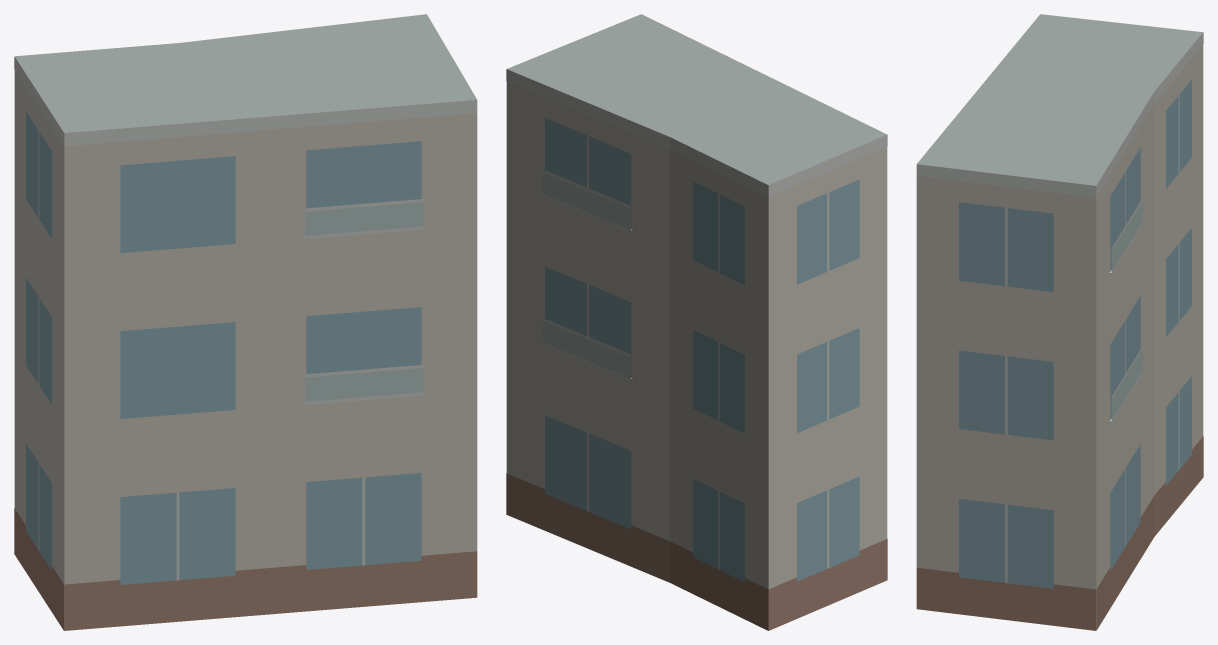
The model's file is survey-upis-32938868.glb.
3 renders of one model, left to right at view 1: azimuth 30°, elevation 25°; view 2: azimuth 150°, elevation 25°; view 3: azimuth 270°, elevation 25°, orthographic. The views are drawn at different scales.
Visible parts, largest first — view 1: survey-upis-32938868.tmp; view 2: survey-upis-32938868.tmp; view 3: survey-upis-32938868.tmp.
Part boxes in pixels (box(x1,y1,x2,y2)): survey-upis-32938868.tmp: box(14, 14, 477, 630); survey-upis-32938868.tmp: box(506, 14, 887, 630); survey-upis-32938868.tmp: box(916, 14, 1203, 630).
Size of the model in its own units: 7.59 by 9.15 by 5.36.
